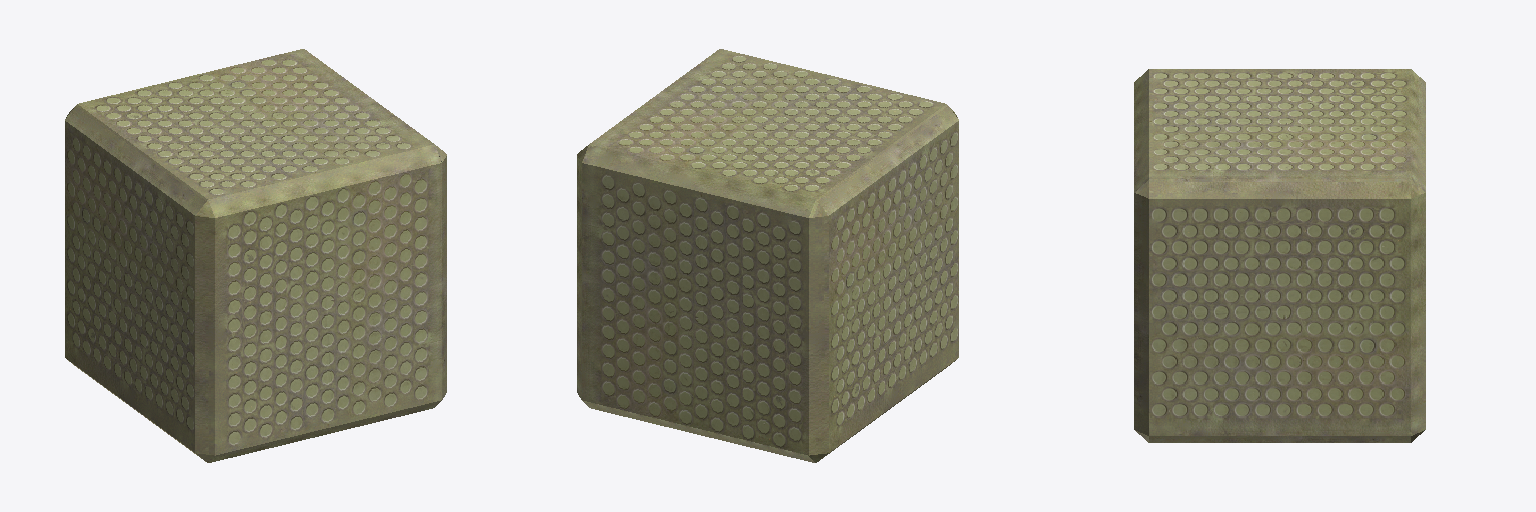
3 views of the same model, side by side, from view 1: azimuth 30°, elevation 25°; view 2: azimuth 150°, elevation 25°; view 3: azimuth 270°, elevation 25° (orthographic).
Visible parts, largest first — view 1: Cube_Cube.001; view 2: Cube_Cube.001; view 3: Cube_Cube.001.
Part boxes in pixels (x1,y1,x2,y2): Cube_Cube.001: (65,49,446,462); Cube_Cube.001: (577,49,958,462); Cube_Cube.001: (1134,69,1425,442).
Size of the model in its own units: 2 by 2 by 2.
1 materials, 1 textured.